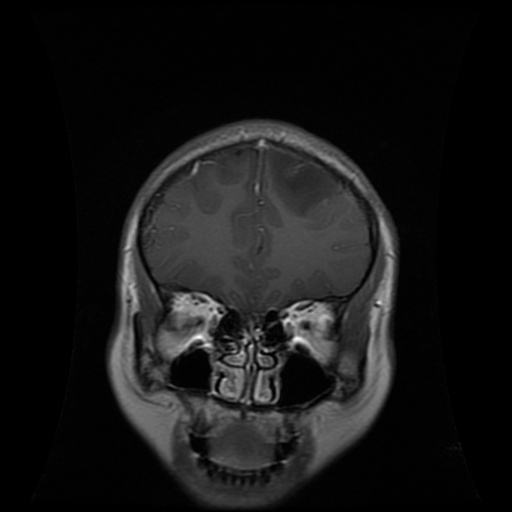glioma: (264, 148, 336, 211)
